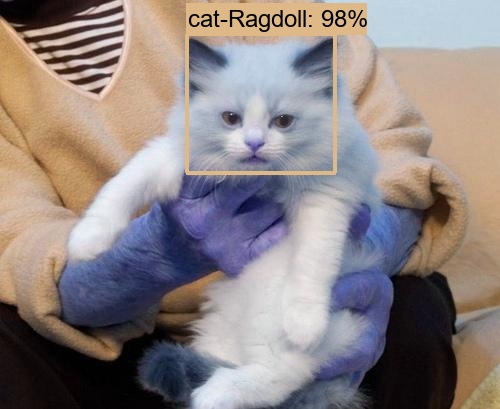cat-Ragdoll: (186, 38, 336, 170)
